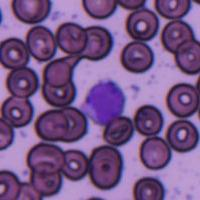L: (82, 77, 126, 125)
